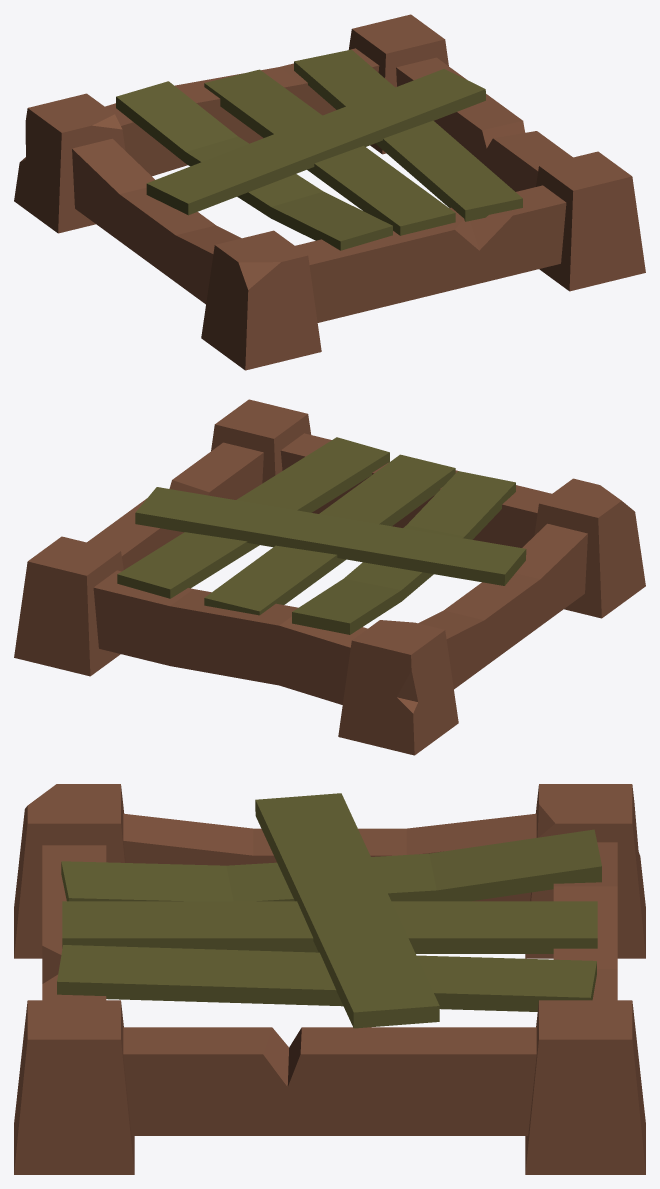
Rendered from LPWarPack_ThatchTrap.fbx.
The picture shows the model from 3 angles, top to bottom: view 1: azimuth 30°, elevation 25°; view 2: azimuth 150°, elevation 25°; view 3: azimuth 270°, elevation 25°; orthographic projection. The views are drawn at different scales.
Visible parts, largest first — view 1: ThatchTrap; view 2: ThatchTrap; view 3: ThatchTrap.
Part boxes in pixels (x1,y1,x2,y2): ThatchTrap: (14, 14, 645, 370); ThatchTrap: (14, 399, 645, 755); ThatchTrap: (14, 784, 645, 1174).
Bounding box in the file's own units: 100 × 24.18 × 100.
